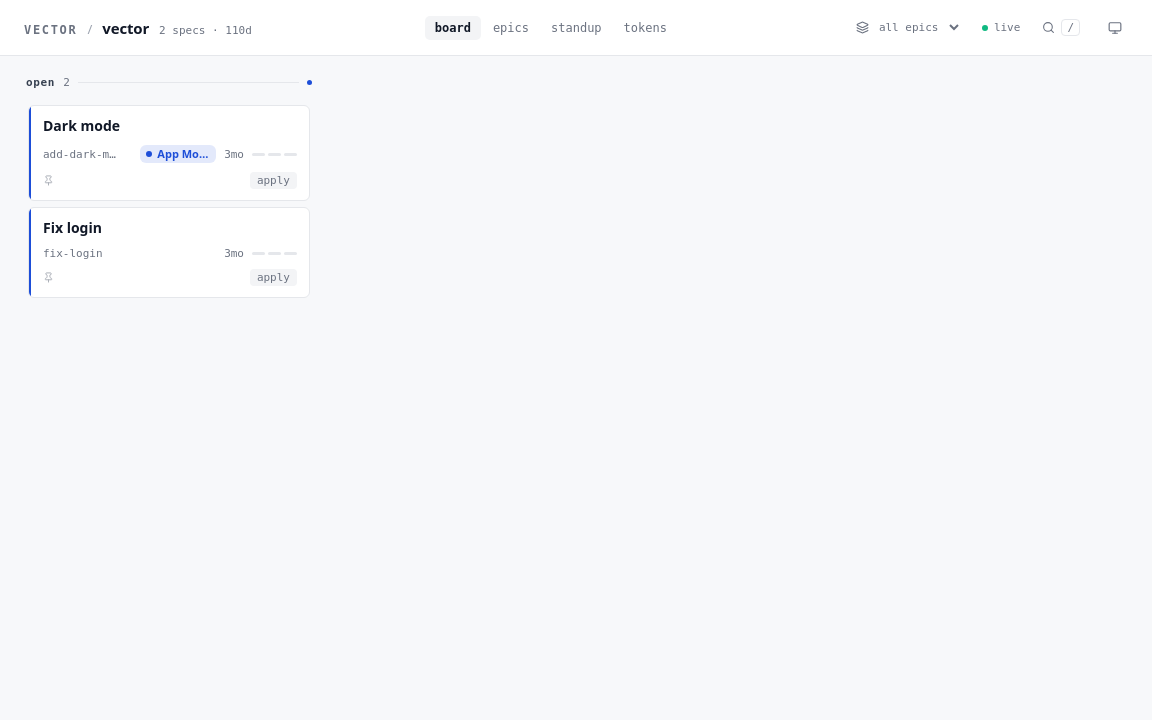
App command palette wiring › opens the palette with / from the standup and tokens views
This screenshot has width=1152, height=720.
Click the button "standup". click: [576, 28]
box: [541,16,612,40]
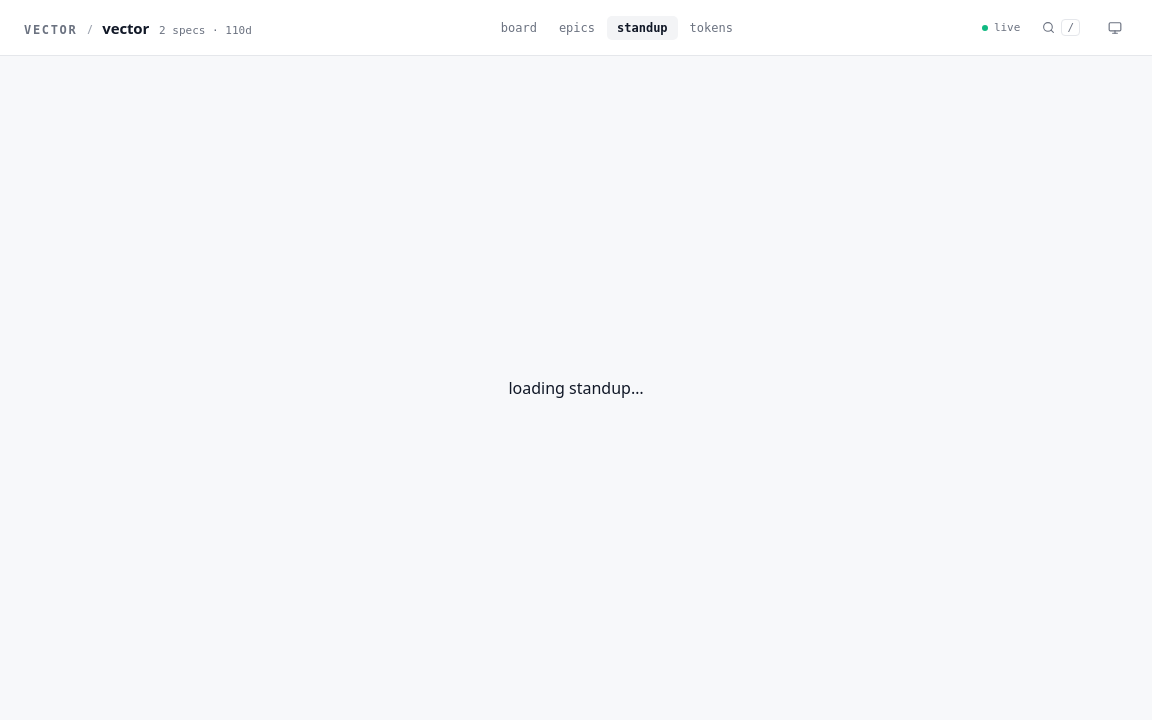
Press /
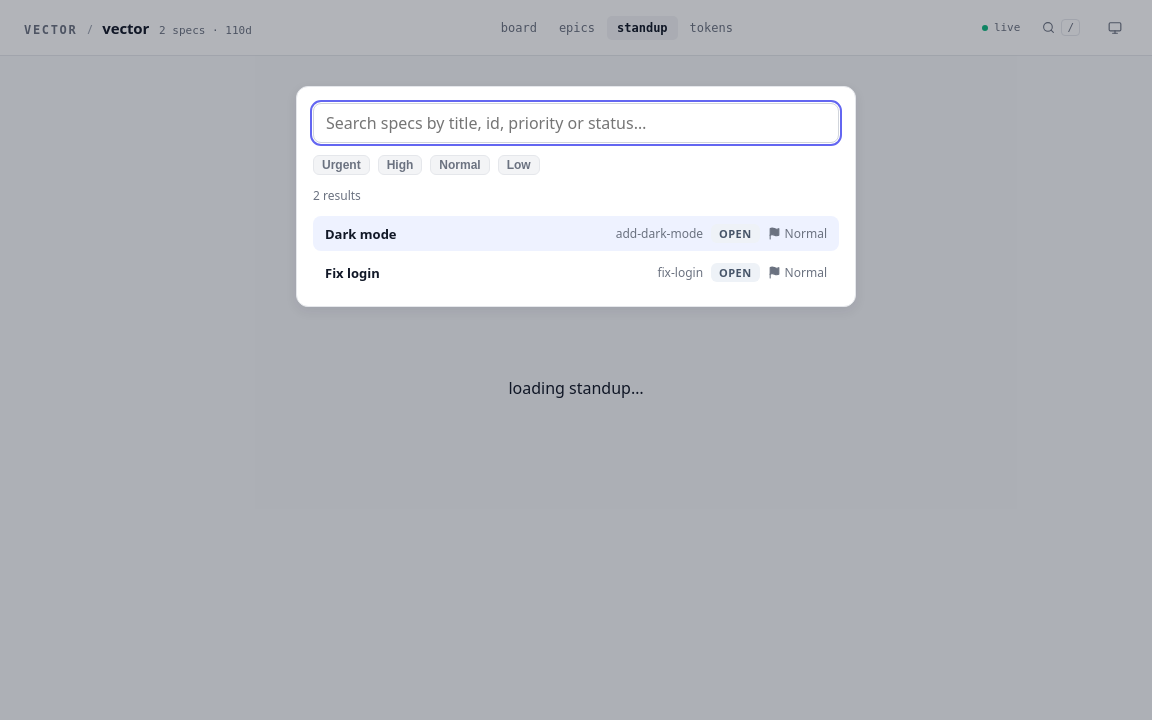
Expected: the dialog named "Command palette" is shown, [296,86,856,307]
Press Escape in the dropdown, box [313,103,839,143]
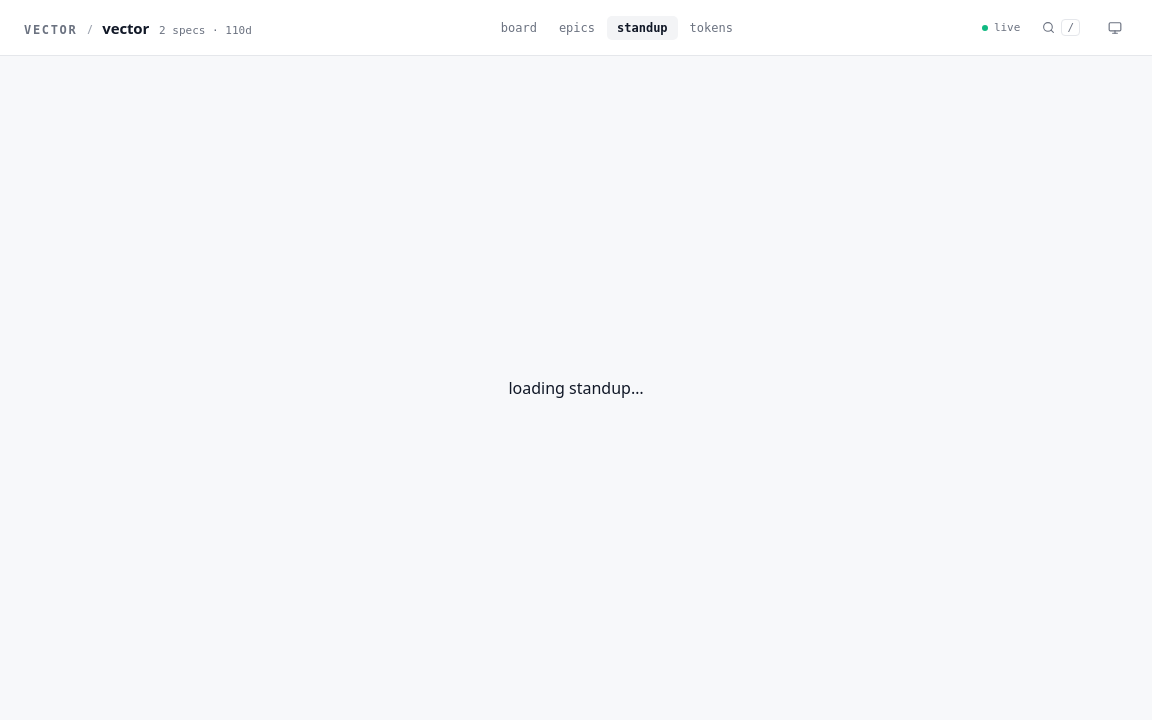
Click the button "tokens". click: [711, 28]
box: [680,16,743,40]
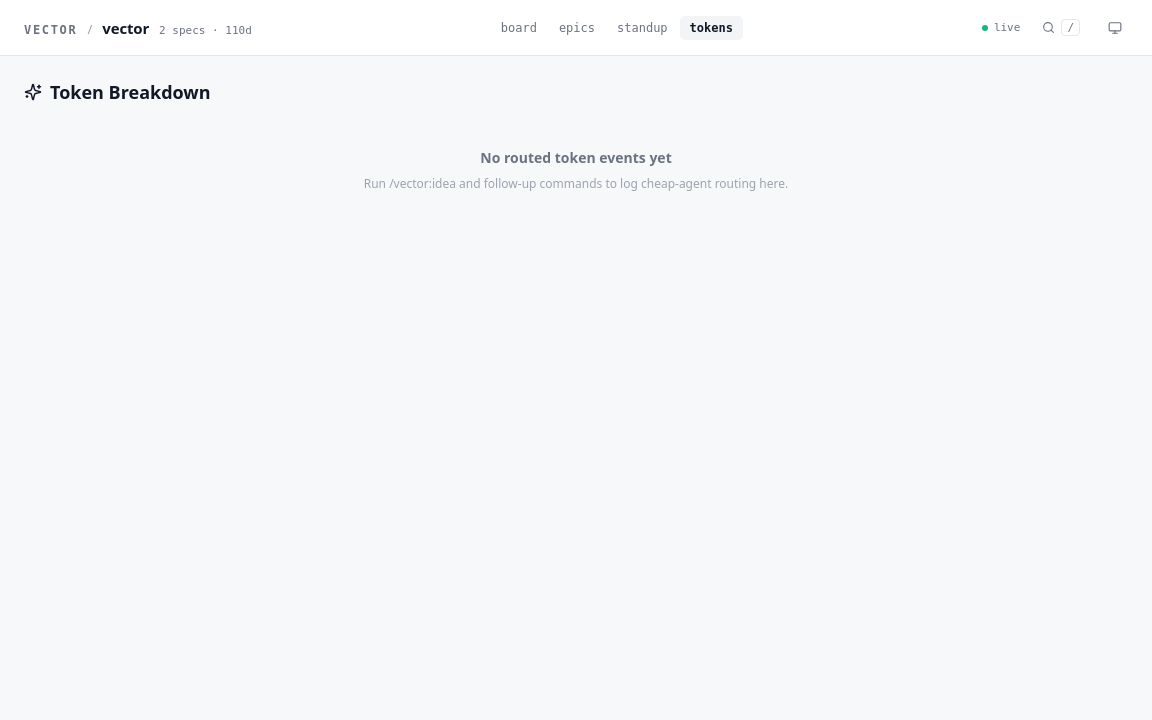
Press /
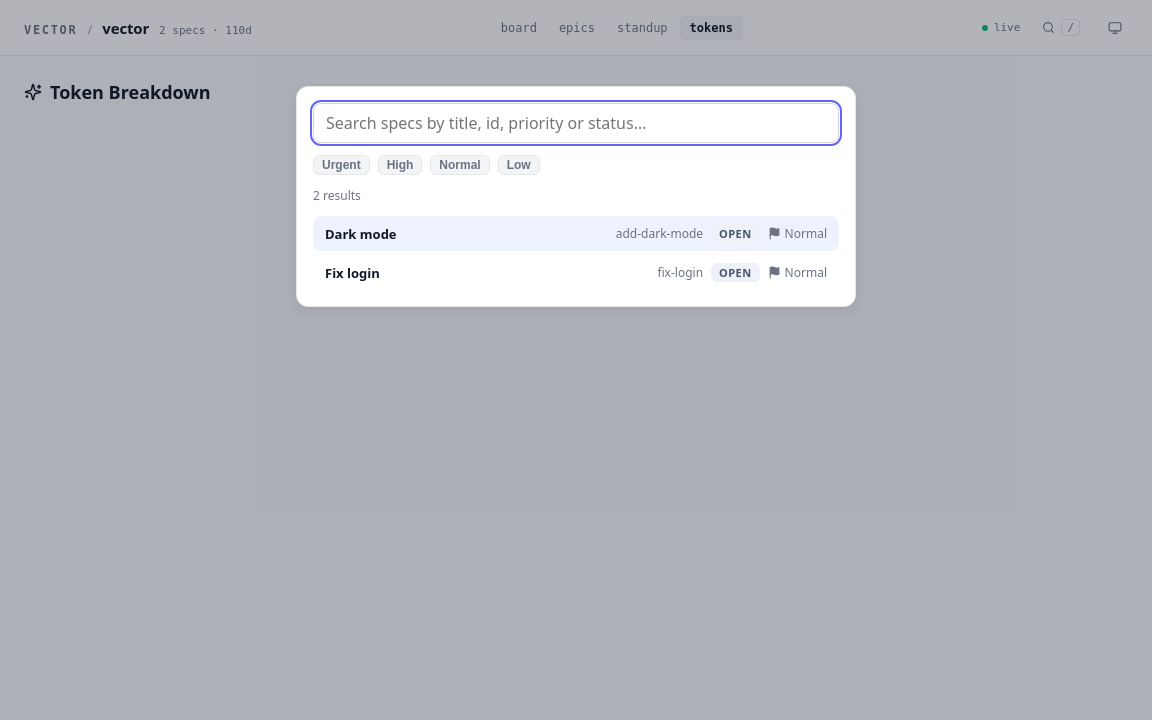
Expected: the dialog named "Command palette" is shown, [296,86,856,307]
